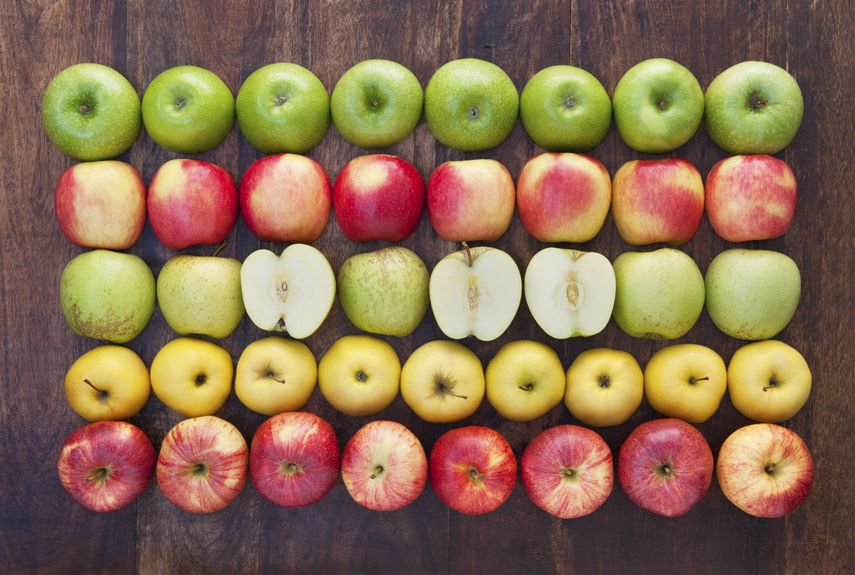Apple: (37, 57, 152, 158), (722, 424, 821, 540), (58, 248, 167, 347), (621, 418, 714, 534), (241, 411, 344, 510), (431, 414, 524, 523), (608, 61, 708, 156), (238, 246, 335, 343), (519, 243, 607, 346), (142, 71, 241, 160), (61, 421, 155, 513), (332, 154, 421, 251), (425, 68, 522, 156), (239, 64, 331, 156), (712, 164, 805, 254), (614, 251, 711, 337), (522, 148, 614, 237), (702, 68, 804, 148), (345, 253, 434, 340), (57, 167, 145, 246), (324, 331, 402, 417), (151, 338, 241, 411), (574, 348, 638, 424)
